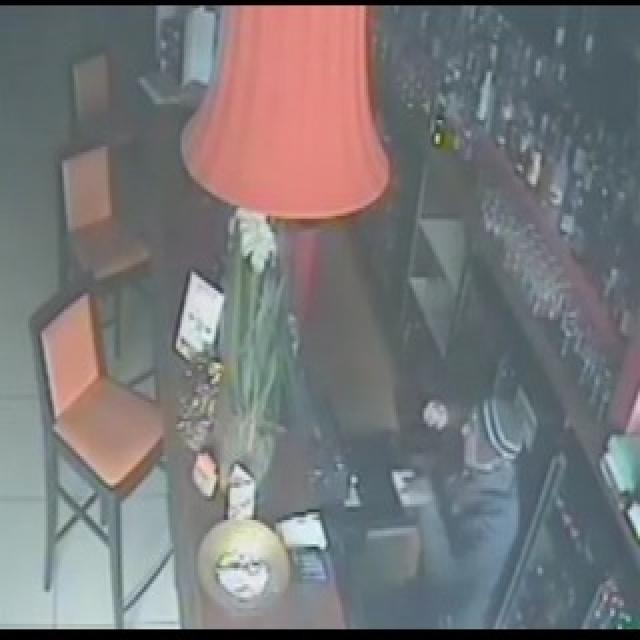thief: (414, 374, 523, 538)
